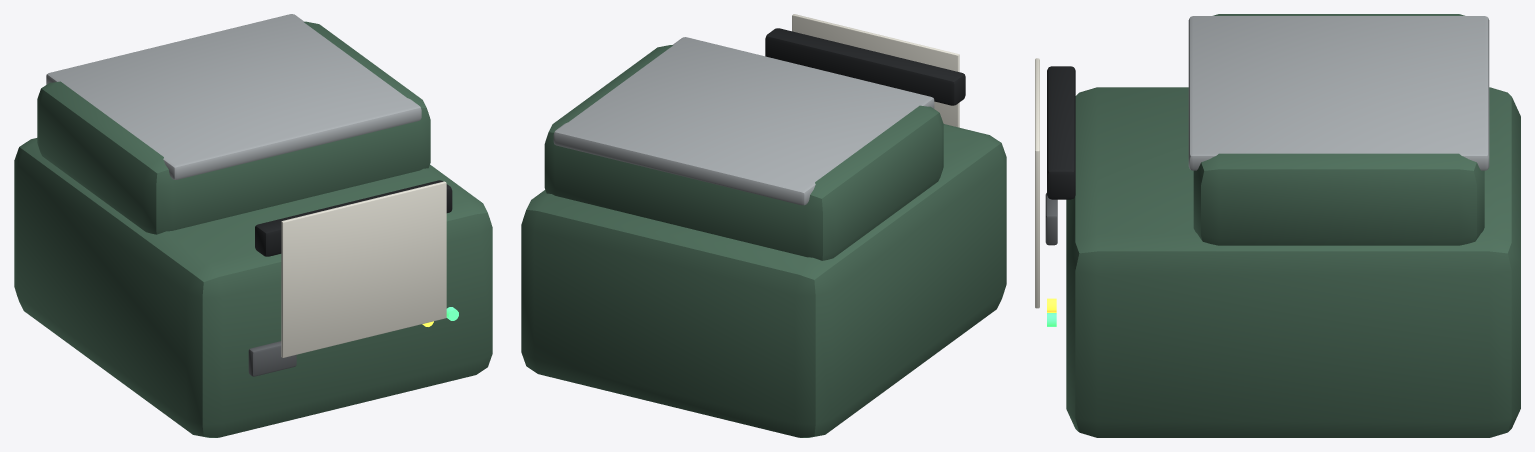
Rendered from receipt_printer_public.glb.
3 views of the same model, side by side, from view 1: azimuth 30°, elevation 25°; view 2: azimuth 150°, elevation 25°; view 3: azimuth 270°, elevation 25° (orthographic). The views are drawn at different scales.
Parts seen in each view (by area): view 1: Printer_Body, Printer_LidTrim, Printer_RollLid, ReceiptPaper, Printer_OutputSlot, Printer_FeedButton; view 2: Printer_Body, Printer_LidTrim, Printer_RollLid, Printer_OutputSlot, ReceiptPaper; view 3: Printer_Body, Printer_LidTrim, Printer_RollLid, Printer_OutputSlot, ReceiptPaper, Printer_FeedButton.
Part boxes in pixels (x1,y1,x2,y2): Printer_Body: (14, 138, 492, 437); Printer_LidTrim: (46, 14, 421, 179); Printer_RollLid: (37, 21, 430, 234); ReceiptPaper: (281, 181, 446, 357); Printer_OutputSlot: (255, 180, 452, 256); Printer_FeedButton: (248, 341, 296, 376); Printer_Body: (521, 124, 1006, 437); Printer_LidTrim: (553, 37, 934, 205); Printer_RollLid: (544, 45, 943, 260); Printer_OutputSlot: (765, 28, 965, 105); ReceiptPaper: (792, 14, 959, 127); Printer_Body: (1066, 87, 1520, 437); Printer_LidTrim: (1188, 16, 1489, 170); Printer_RollLid: (1193, 14, 1484, 245); Printer_OutputSlot: (1047, 66, 1075, 199); ReceiptPaper: (1035, 58, 1039, 308); Printer_FeedButton: (1045, 193, 1057, 245).
Size of what is drawn, in the model's own units: 0.17 by 0.1288 by 0.203.
